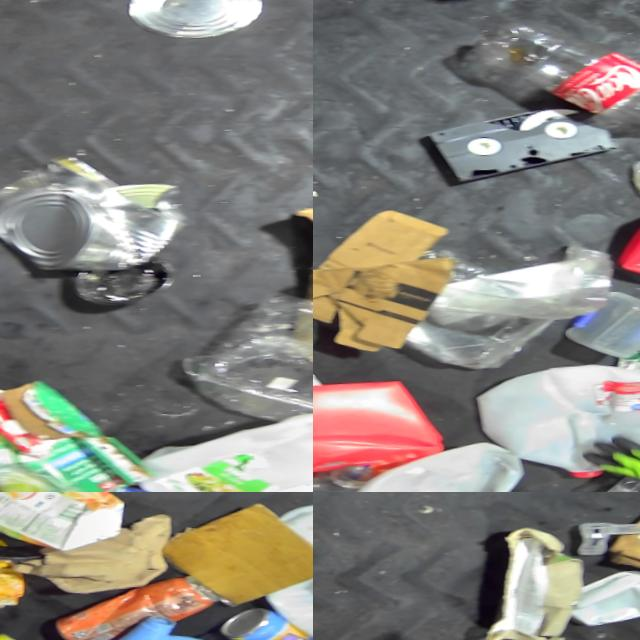can: (0, 171, 190, 279), (236, 607, 313, 640)
milk_jug: (483, 351, 640, 475), (131, 389, 313, 492), (355, 431, 534, 492)
non_white_jug: (313, 367, 450, 479), (55, 613, 307, 640)
plastic_bottle: (482, 9, 640, 151)
